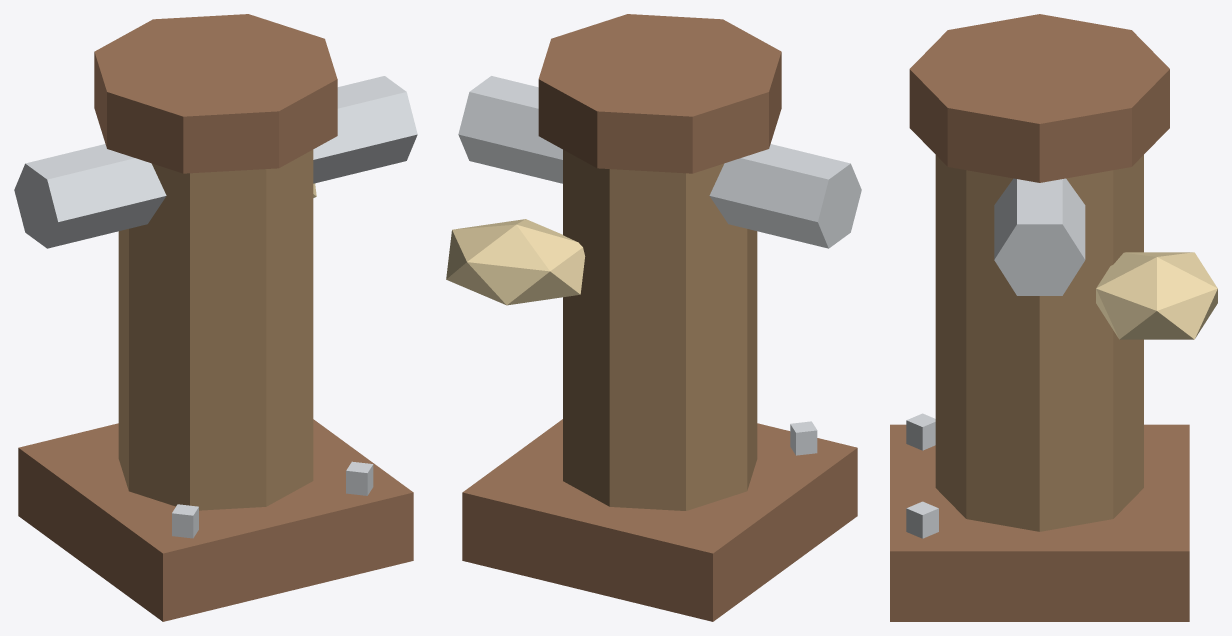
File: dock_bollard.glb
3 renders of one model, left to right at view 1: azimuth 30°, elevation 25°; view 2: azimuth 150°, elevation 25°; view 3: azimuth 270°, elevation 25°, orthographic. The views are drawn at different scales.
Parts seen in each view (by area): view 1: post.004, base.006, cap.002, horn, bolt_1, bolt_0; view 2: post.004, base.006, cap.002, horn, rope.001, bolt_0; view 3: post.004, base.006, cap.002, horn, rope.001, bolt_1, bolt_0.
Boxes of the visible parts, <box> form: post.004: <box>118,150,313,510</box>; base.006: <box>18,419,413,621</box>; cap.002: <box>94,14,337,173</box>; horn: <box>14,76,417,248</box>; bolt_1: <box>346,461,373,495</box>; bolt_0: <box>172,504,198,538</box>; post.004: <box>563,149,757,510</box>; base.006: <box>462,419,857,621</box>; cap.002: <box>538,14,781,173</box>; horn: <box>458,76,861,248</box>; rope.001: <box>446,219,585,305</box>; bolt_0: <box>790,421,817,455</box>; post.004: <box>935,155,1143,531</box>; base.006: <box>890,424,1189,621</box>; cap.002: <box>909,14,1169,182</box>; horn: <box>994,178,1085,295</box>; rope.001: <box>1096,252,1217,339</box>; bolt_1: <box>906,501,938,538</box>; bolt_0: <box>906,413,935,450</box>.
Bounding box in the file's own units: 0.66 × 0.83 × 0.5036.
